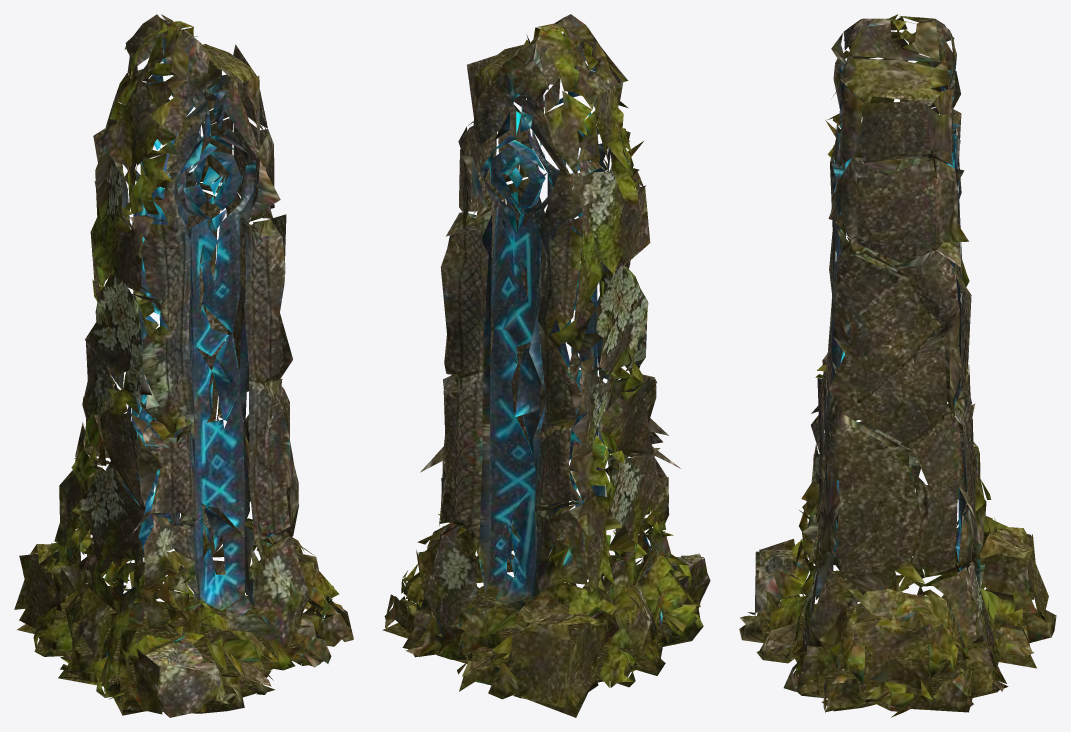
Rendered from runa_lod1.glb.
3 renders of one model, left to right at view 1: azimuth 30°, elevation 25°; view 2: azimuth 150°, elevation 25°; view 3: azimuth 270°, elevation 25°, orthographic. The views are drawn at different scales.
Visible parts, largest first — view 1: runa; view 2: runa; view 3: runa.
Boxes of the visible parts, x1=… form: runa: x1=14, y1=14, x2=353, y2=717; runa: x1=382, y1=14, x2=710, y2=717; runa: x1=739, y1=14, x2=1056, y2=717.
Bounding box in the file's own units: 0.9738 × 2.24 × 1.01.
1 material, 1 textured.
